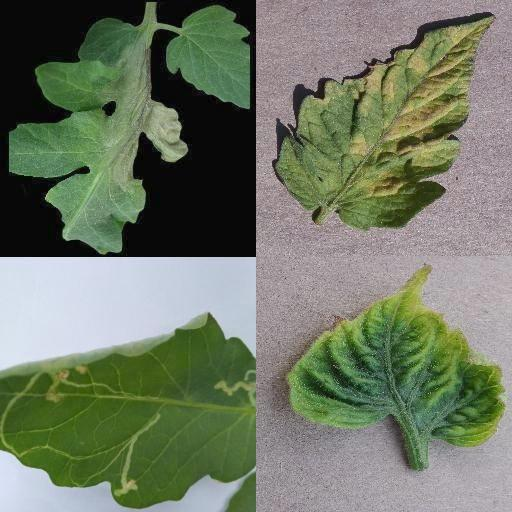Healthy: (164, 6, 250, 110)
Late Blight: (10, 18, 188, 256)
Leaf Miner: (0, 312, 256, 508)
Leaf Mold: (274, 13, 494, 233)
Yellow Leaf Curl Virus: (288, 264, 508, 448)
